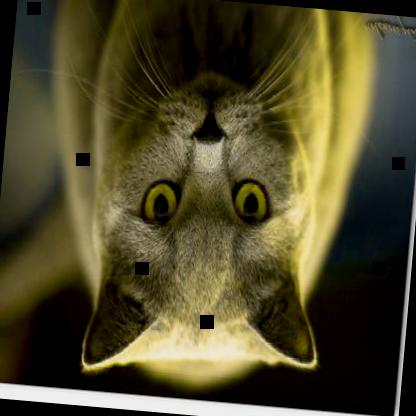cat: (25, 0, 379, 398)
